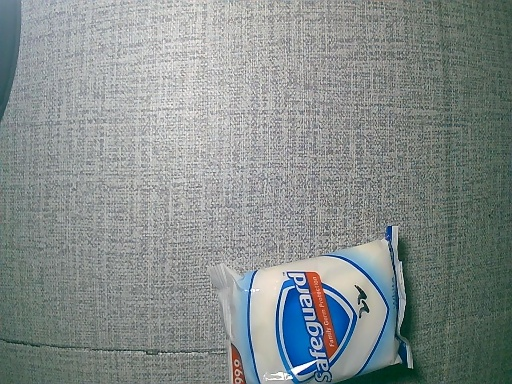plastic: (207, 223, 414, 384)
